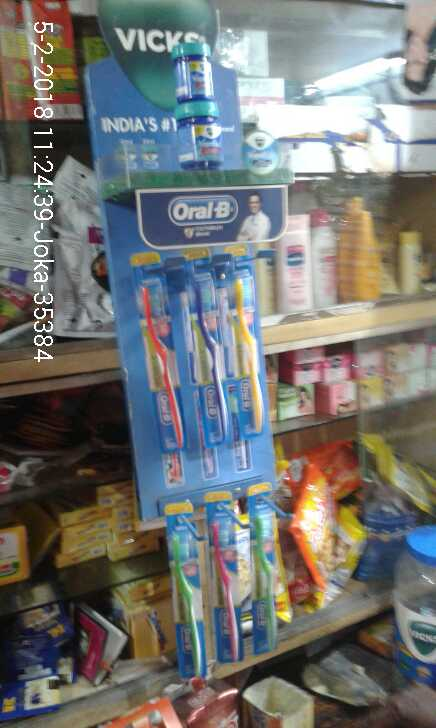pharmacy: (131, 269, 190, 447), (165, 500, 210, 681), (207, 487, 250, 664), (189, 263, 232, 437), (229, 264, 267, 436), (248, 488, 282, 659), (173, 102, 226, 168), (169, 41, 218, 105)
